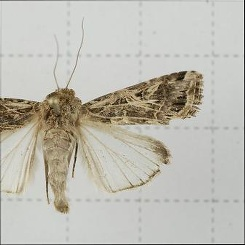Spodoptera litura: (0, 17, 205, 214)
